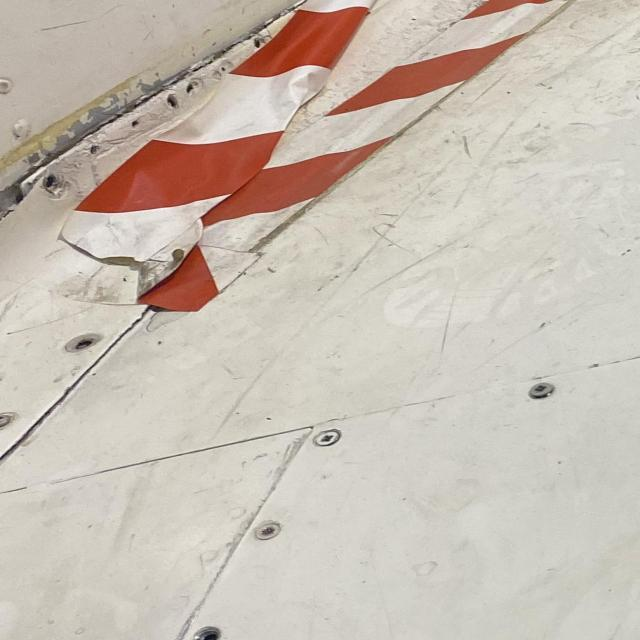Crack: (0, 0, 311, 223)
Missing-head: (62, 334, 98, 353), (189, 627, 218, 640)
Paint-off: (145, 310, 194, 334)
